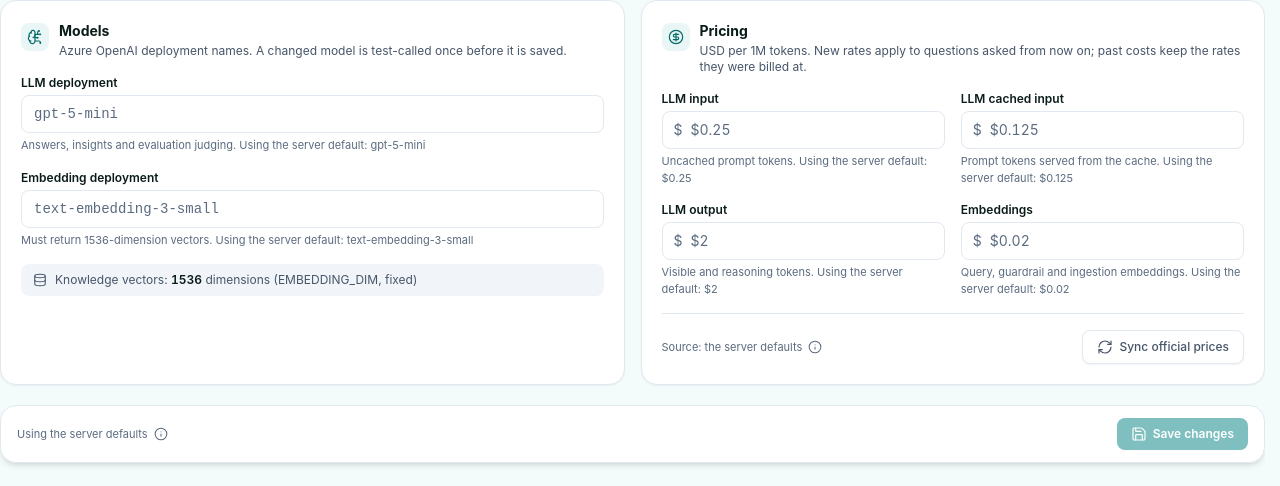
Test: Settings → Models & Pricing › warns that changing the embedding model needs re-ingestion
In the field labelled "Embedding deployment": x=312, y=208 [21,190,604,228], type "text-embedding-3-large"
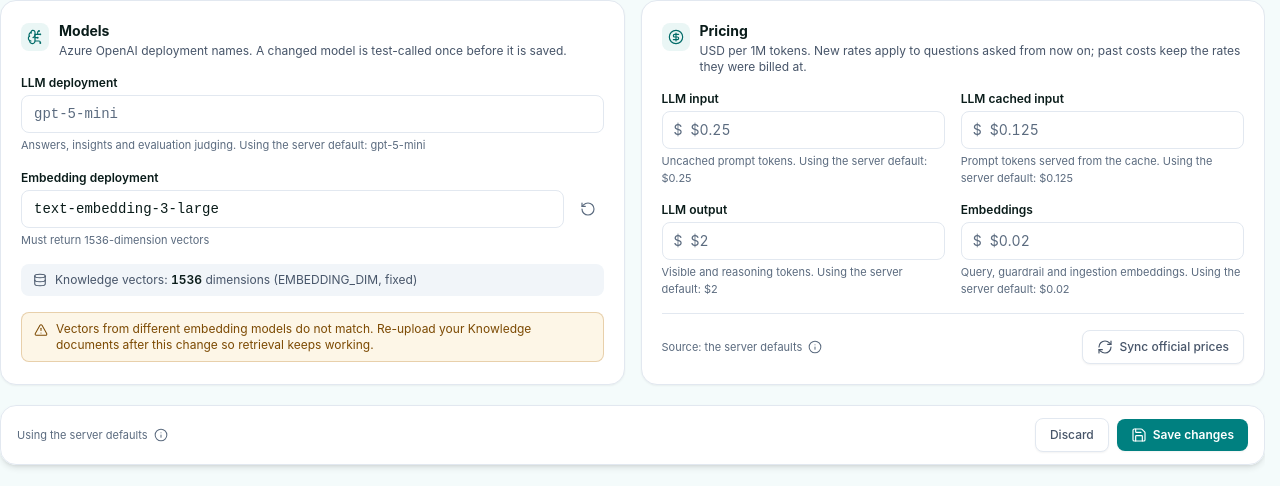
Result: the text "Re-upload your Knowledge documents" is shown at [56,321,531,352]
